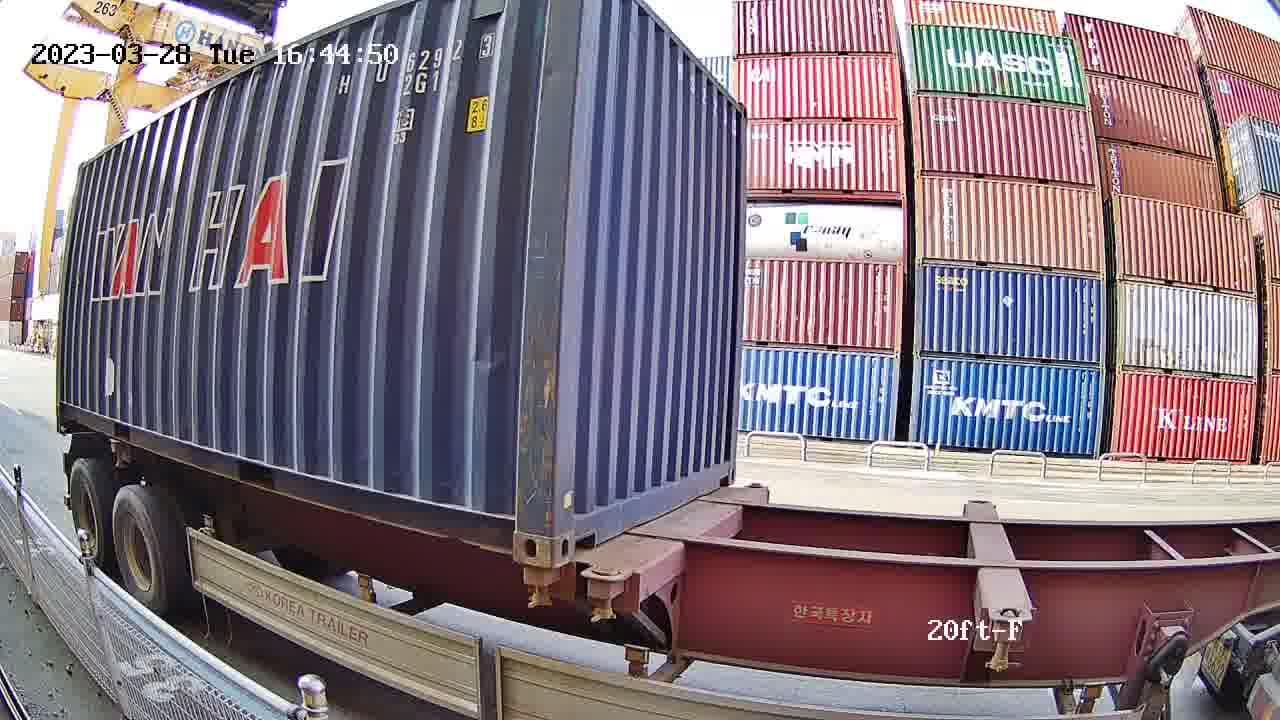Chassis: (581, 484, 769, 584)
Cone: (580, 565, 627, 623), (522, 564, 562, 609)
Hole_L: (552, 487, 601, 569)
Hole_R: (483, 490, 553, 570), (714, 445, 737, 492)
Tire: (114, 490, 164, 607), (70, 467, 106, 566)
